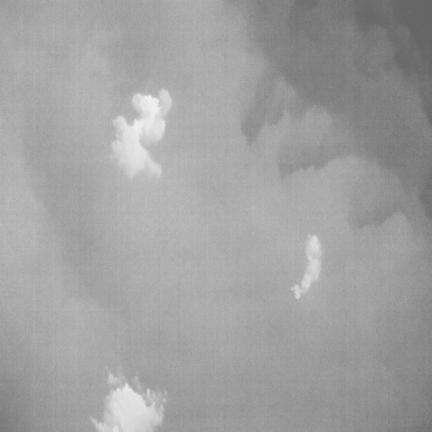flukeprints: (111, 89, 171, 178), (91, 383, 163, 431), (291, 235, 322, 299)
